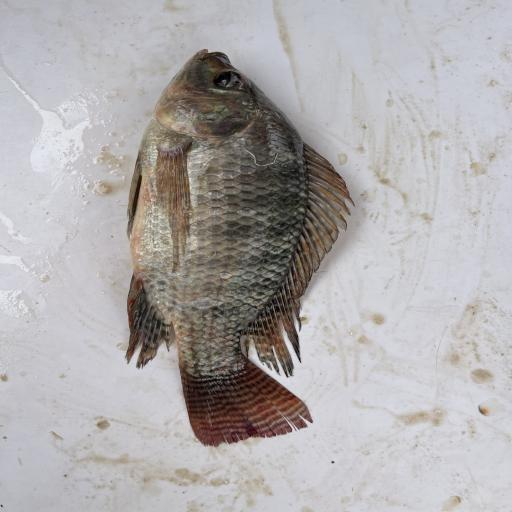Tilapia: (125, 48, 355, 449)
